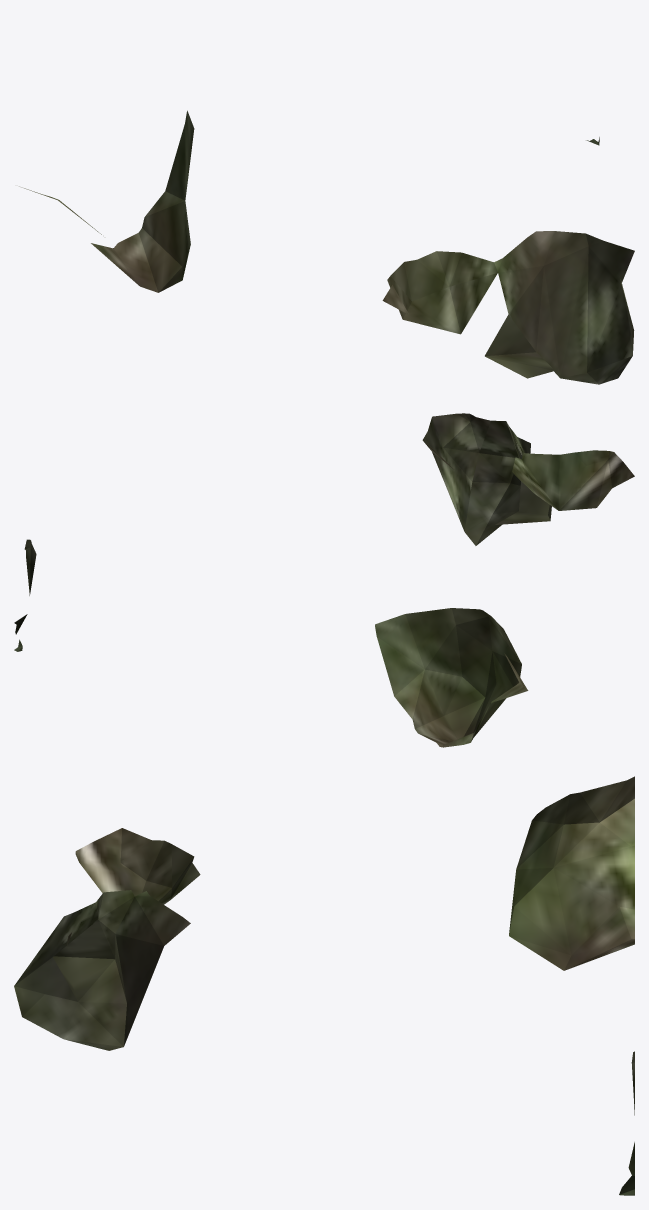
3 views of the same model, one above another, from view 1: azimuth 30°, elevation 25°; view 2: azimuth 150°, elevation 25°; view 3: azimuth 270°, elevation 25° (orthographic). The views are drawn at different scales.
Bounding box in the file's own units: 1.49 × 0.351 × 1.32.
1 material, 1 textured.
